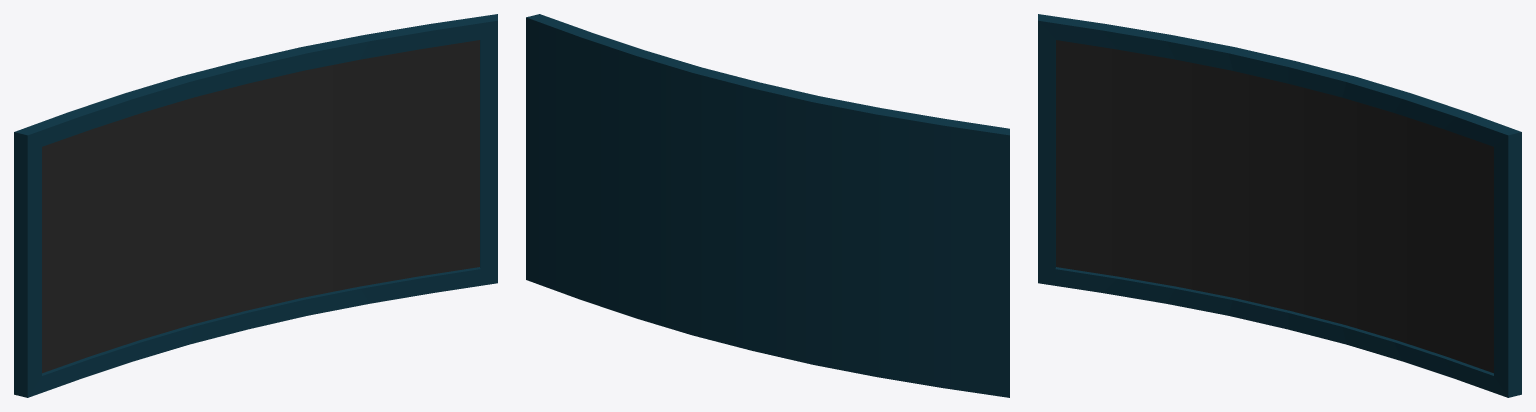
The model's file is Itr_Obj_Monitor_LCD_Curved_Screen_Off_03.FBX.
3 views of the same model, side by side, from view 1: azimuth 30°, elevation 25°; view 2: azimuth 150°, elevation 25°; view 3: azimuth 330°, elevation 25° (orthographic).
Parts seen in each view (by area): view 1: Itr_Obj_Monitor_LCD_Curved_Screen_Off_03; view 2: Itr_Obj_Monitor_LCD_Curved_Screen_Off_03; view 3: Itr_Obj_Monitor_LCD_Curved_Screen_Off_03.
Part boxes in pixels (box(x1,y1,x2,y2)): Itr_Obj_Monitor_LCD_Curved_Screen_Off_03: box(14, 14, 497, 397); Itr_Obj_Monitor_LCD_Curved_Screen_Off_03: box(526, 14, 1009, 397); Itr_Obj_Monitor_LCD_Curved_Screen_Off_03: box(1038, 14, 1521, 397).
Size of the model in its own units: 67.75 by 35.13 by 5.58.
